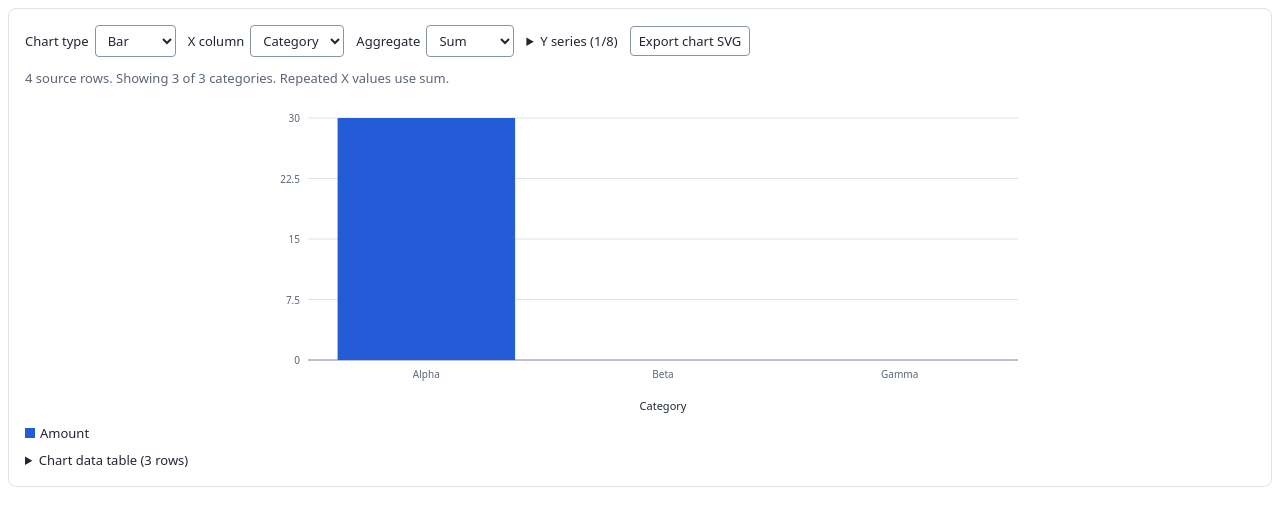
Test: React GridChart › reports unsupported browser download behavior without throwing
Click the button "Export chart SVG" at x=690, y=41, box [630, 26, 750, 56]
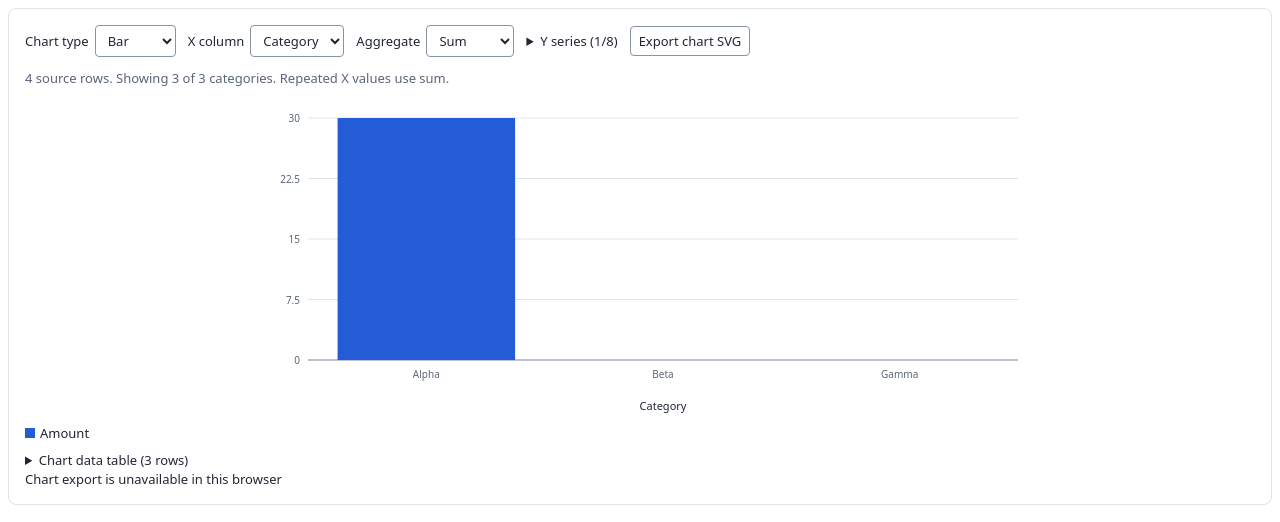
Check: the message shows "unavailable", box [25, 470, 282, 488]
